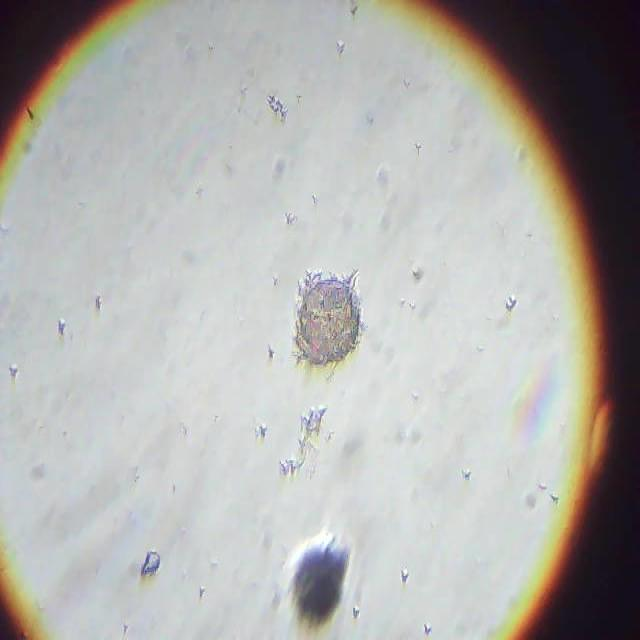alexandrium: (281, 268, 384, 374)
alexandrium minutum: (291, 538, 355, 623)
